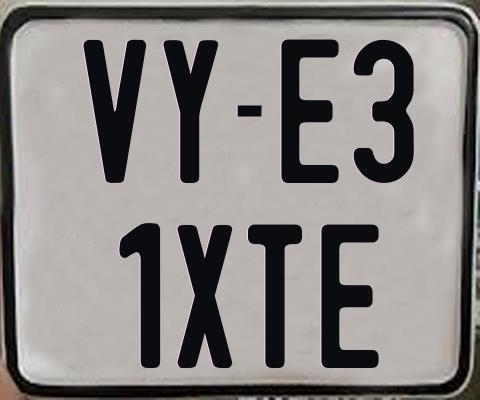1: (118, 220, 162, 367)
3: (353, 39, 419, 186)
E: (280, 37, 344, 186), (320, 223, 380, 370)
T: (245, 223, 304, 370)
V: (80, 40, 148, 188)
X: (175, 224, 233, 373)
Y: (161, 39, 222, 186)
